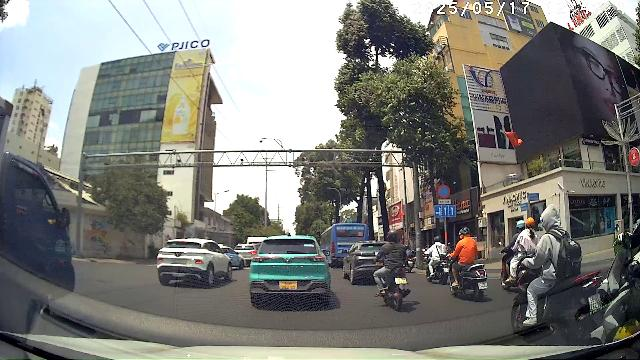131a-cam-do-xe: (437, 184, 451, 199)
